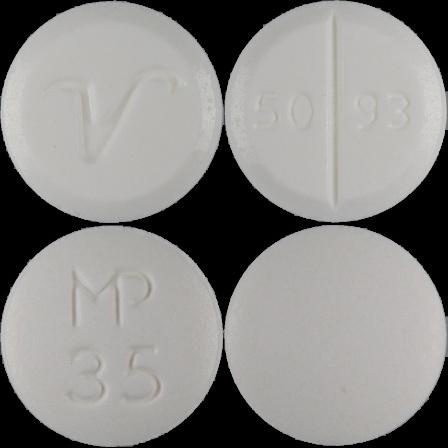21695-765: (0, 0, 224, 224)
